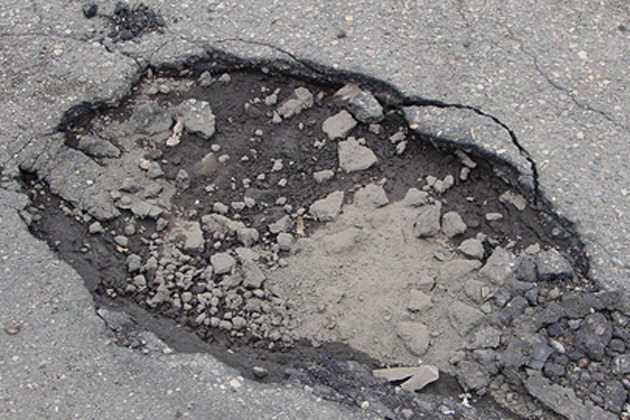pothole: (13, 32, 621, 402)
